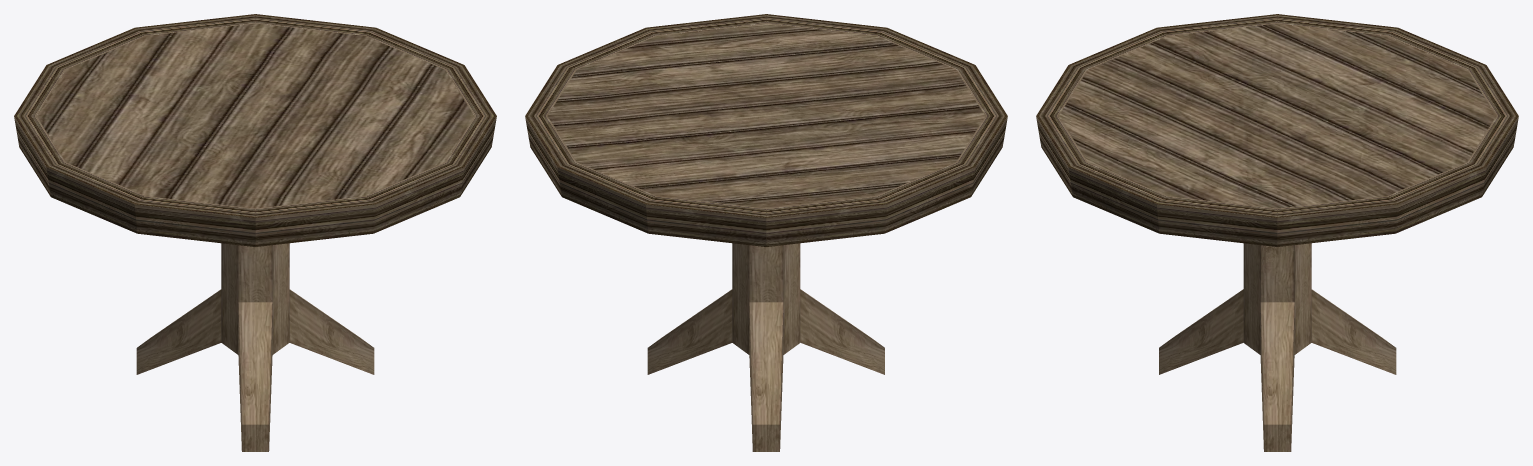
The model's file is GS_TABLE_CIRCULAR_YELLOW_01_KOZA.glb.
3 renders of one model, left to right at view 1: azimuth 30°, elevation 25°; view 2: azimuth 150°, elevation 25°; view 3: azimuth 270°, elevation 25°, orthographic.
Visible parts, largest first — view 1: GS_TABLE_CIRCULAR_YELLOW_01_KOZA; view 2: GS_TABLE_CIRCULAR_YELLOW_01_KOZA; view 3: GS_TABLE_CIRCULAR_YELLOW_01_KOZA.
Boxes of the visible parts, bbox=[...] form: GS_TABLE_CIRCULAR_YELLOW_01_KOZA: bbox=[14, 14, 496, 451]; GS_TABLE_CIRCULAR_YELLOW_01_KOZA: bbox=[525, 14, 1007, 451]; GS_TABLE_CIRCULAR_YELLOW_01_KOZA: bbox=[1036, 14, 1518, 451].
Bounding box in the file's own units: 1.4 × 0.9 × 1.4.
2 materials, 2 textured.
